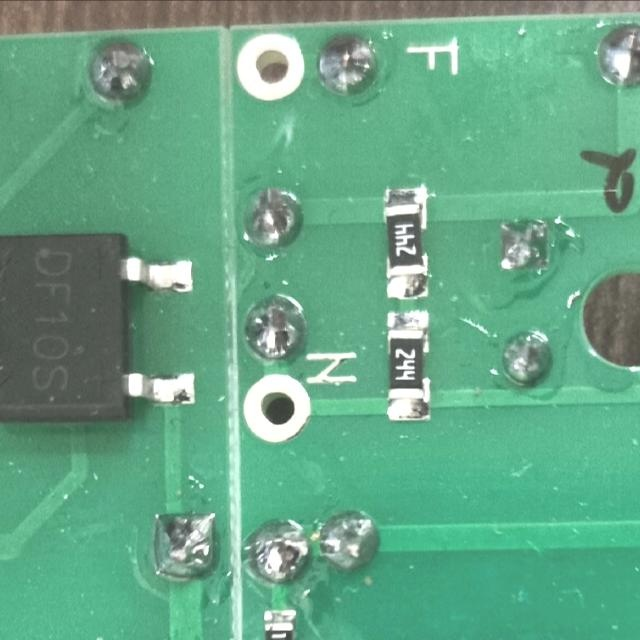chip-resistor: (384, 309, 433, 425), (381, 184, 430, 300)
ic: (0, 232, 197, 426)
